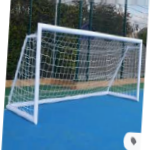goals: (6, 22, 144, 127)
